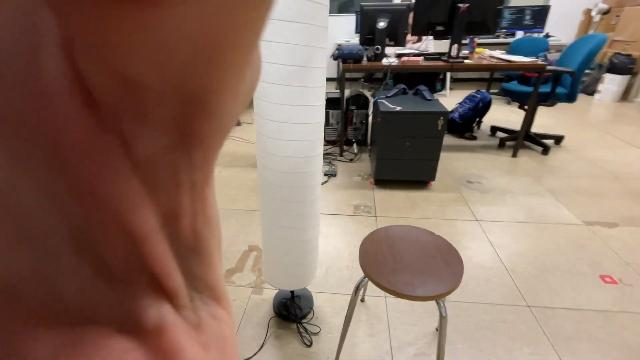Lamp: (249, 0, 335, 330)
Stool: (331, 220, 471, 360)
